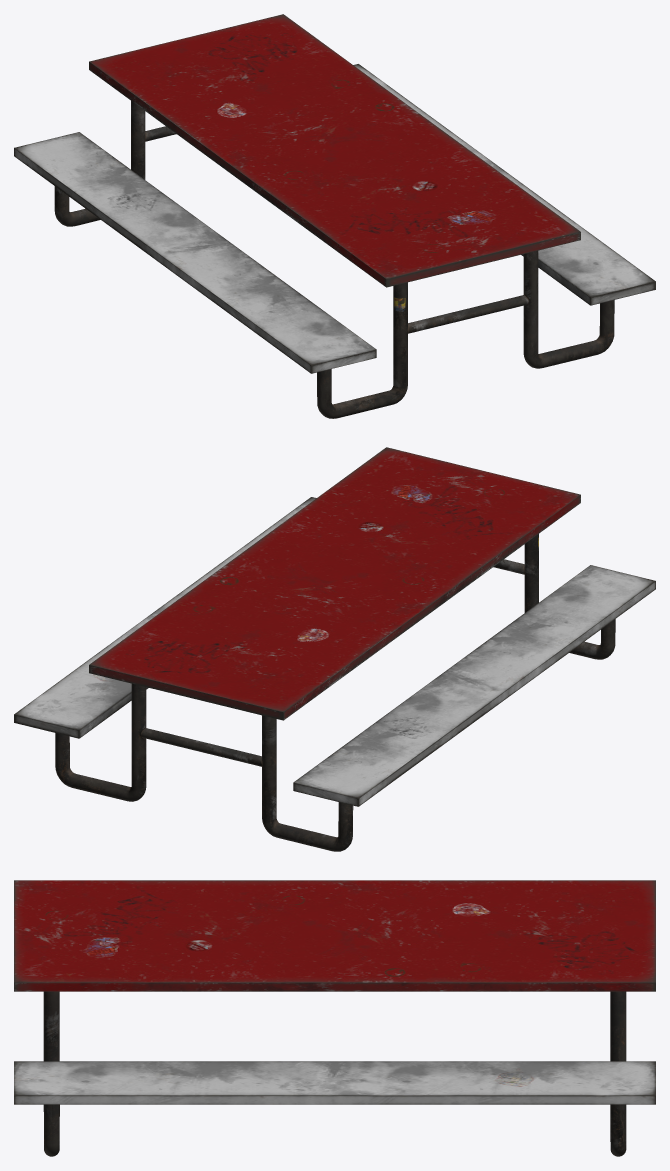
Rendered from picnic_table.glb.
3 renders of one model, top to bottom at view 1: azimuth 30°, elevation 25°; view 2: azimuth 150°, elevation 25°; view 3: azimuth 270°, elevation 25°, orthographic. The views are drawn at different scales.
Size of the model in its own units: 51.47 by 20.45 by 76.93.
Materials: 1 (1 with a texture image).
